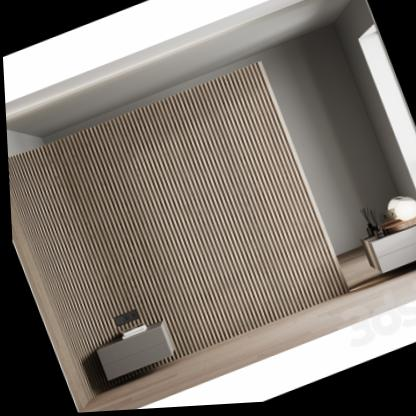Wall Panel: (6, 62, 346, 413)
